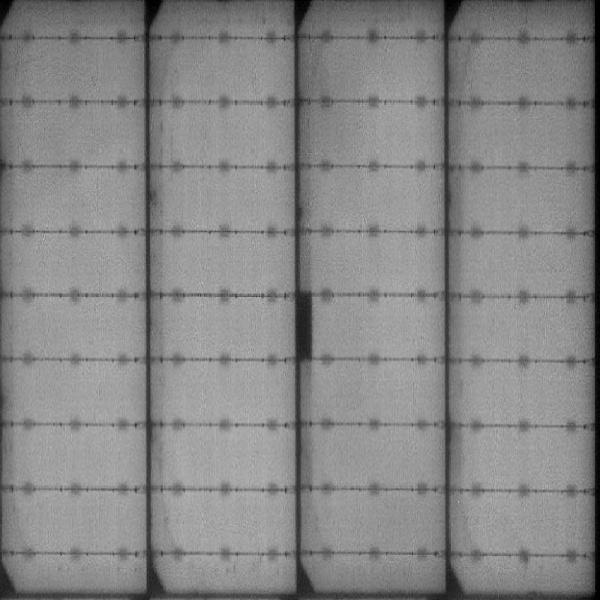black_border: (294, 286, 316, 369)
